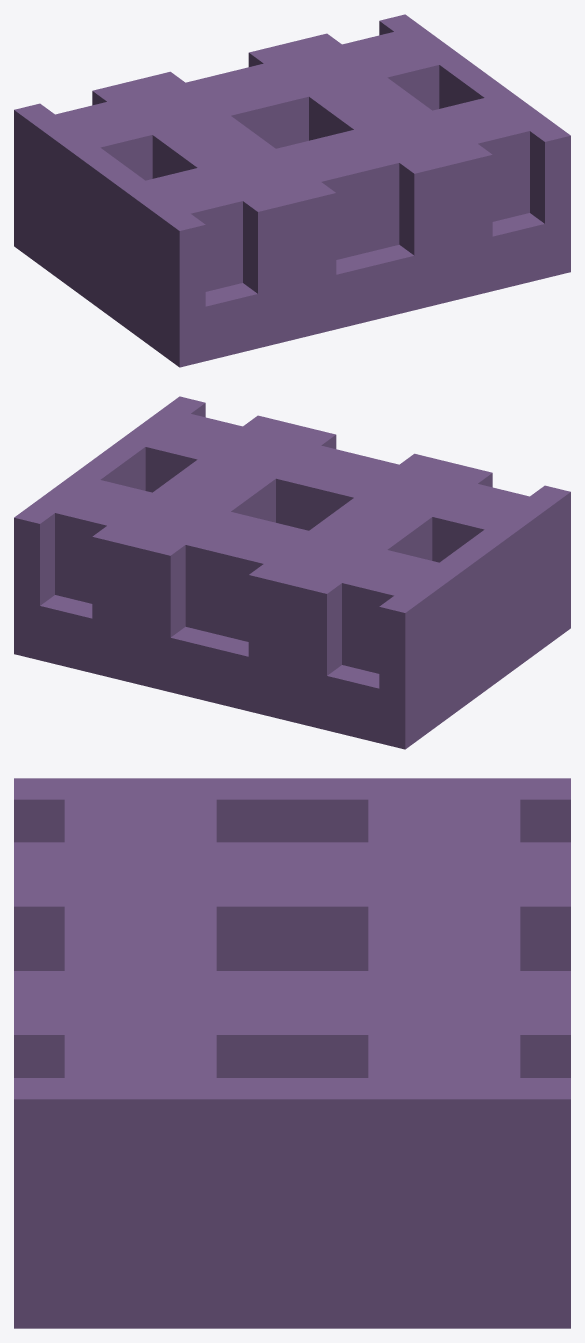
Rendered from alien-biosphere-honey-pit-35f9b150__22789.glb.
3 renders of one model, top to bottom at view 1: azimuth 30°, elevation 25°; view 2: azimuth 150°, elevation 25°; view 3: azimuth 270°, elevation 25°, orthographic. The views are drawn at different scales.
Visible parts, largest first — view 1: honey-pit; view 2: honey-pit; view 3: honey-pit.
Boxes of the visible parts, x1,y1,x2,y2 form: honey-pit: (14,14,570,367); honey-pit: (14,396,570,749); honey-pit: (14,778,570,1328).
Size of the model in its own units: 2.4 by 0.7999 by 1.76.
